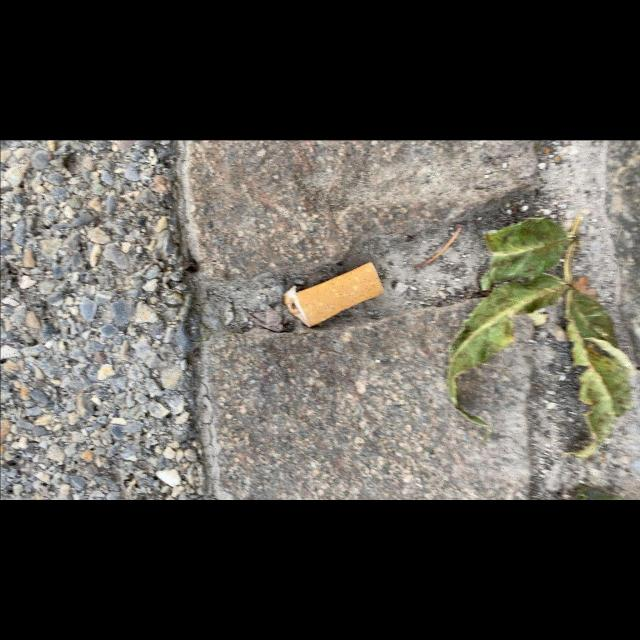cigarette: (282, 261, 384, 328)
